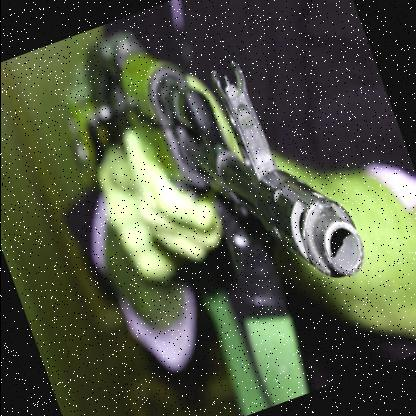rifle: (63, 0, 388, 358)
